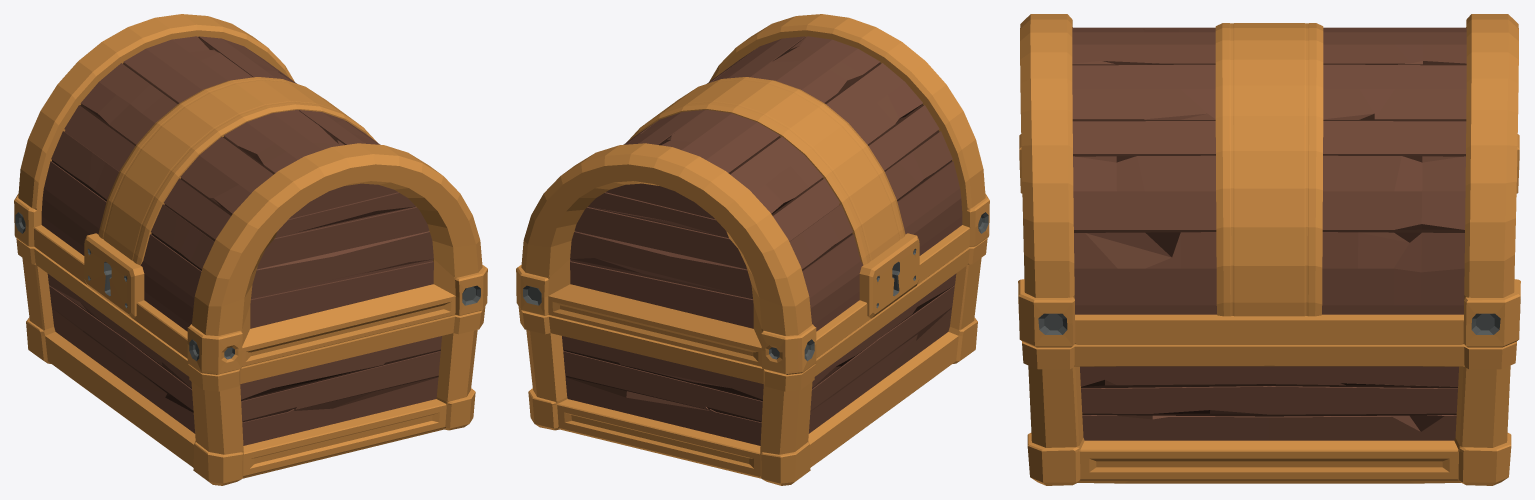
The model's file is takara2.glb.
The picture shows the model from 3 angles, left to right: view 1: azimuth 30°, elevation 25°; view 2: azimuth 150°, elevation 25°; view 3: azimuth 270°, elevation 25°; orthographic projection. The views are drawn at different scales.
Visible parts, largest first — view 1: 円柱.001, 立方体.001; view 2: 円柱.001, 立方体.001; view 3: 円柱.001, 立方体.001.
Part boxes in pixels (<box>): 円柱.001: <box>14,14,487,374</box>; 立方体.001: <box>16,238,485,485</box>; 円柱.001: <box>516,14,989,374</box>; 立方体.001: <box>518,238,987,485</box>; 円柱.001: <box>1018,14,1520,347</box>; 立方体.001: <box>1022,341,1516,485</box>.
Size of the model in its own units: 0.7321 by 0.7355 by 0.8913.
